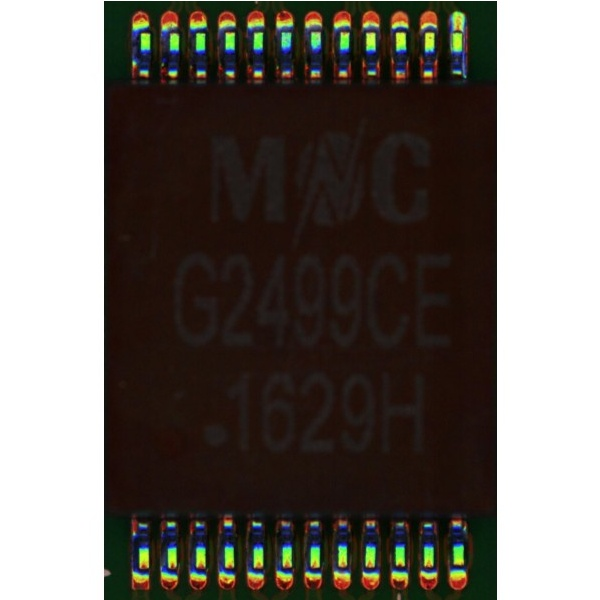Bad_podu: (453, 19, 461, 38)
Bad_qiaojiao: (461, 31, 466, 77)
